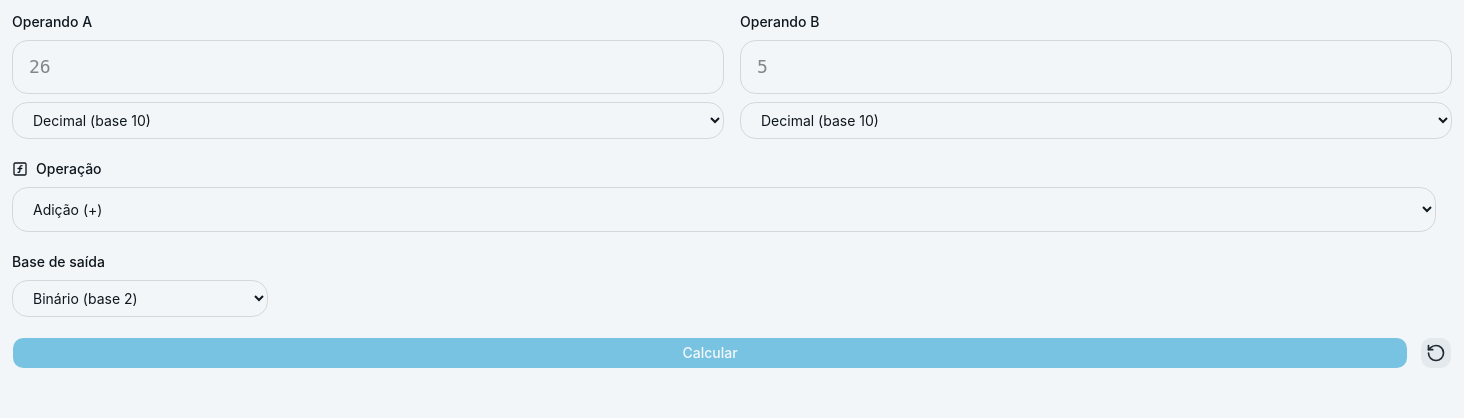
OperationsPanel › mostra campo de amount ao selecionar Shift Left
The width and height of the screenshot is (1464, 418).
Select "Shift Left (<<)" in the dropdown labelled "Operação" at [724, 210], box [12,187,1436,232]
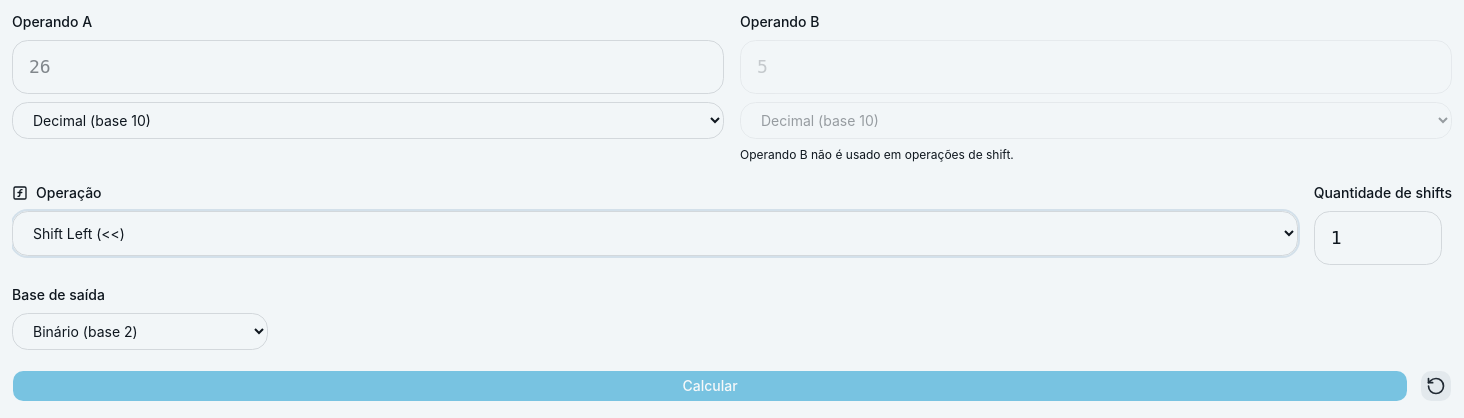
Check: the number field labelled "Quantidade de shifts" is shown, box [1314,211,1442,265]
